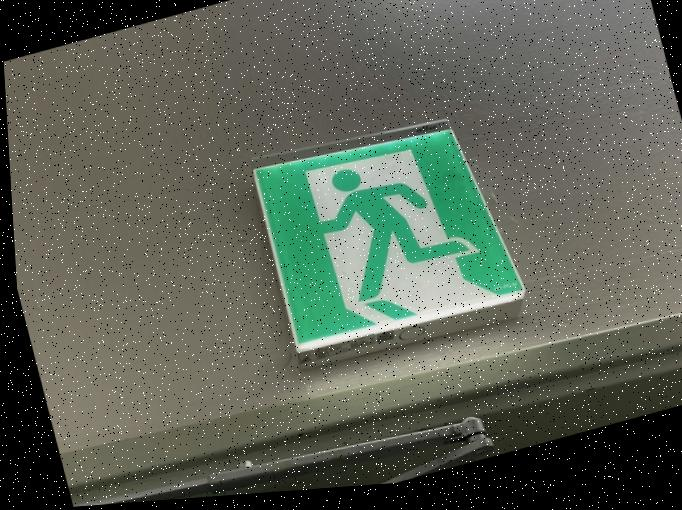emergency_exit: (252, 119, 526, 356)
